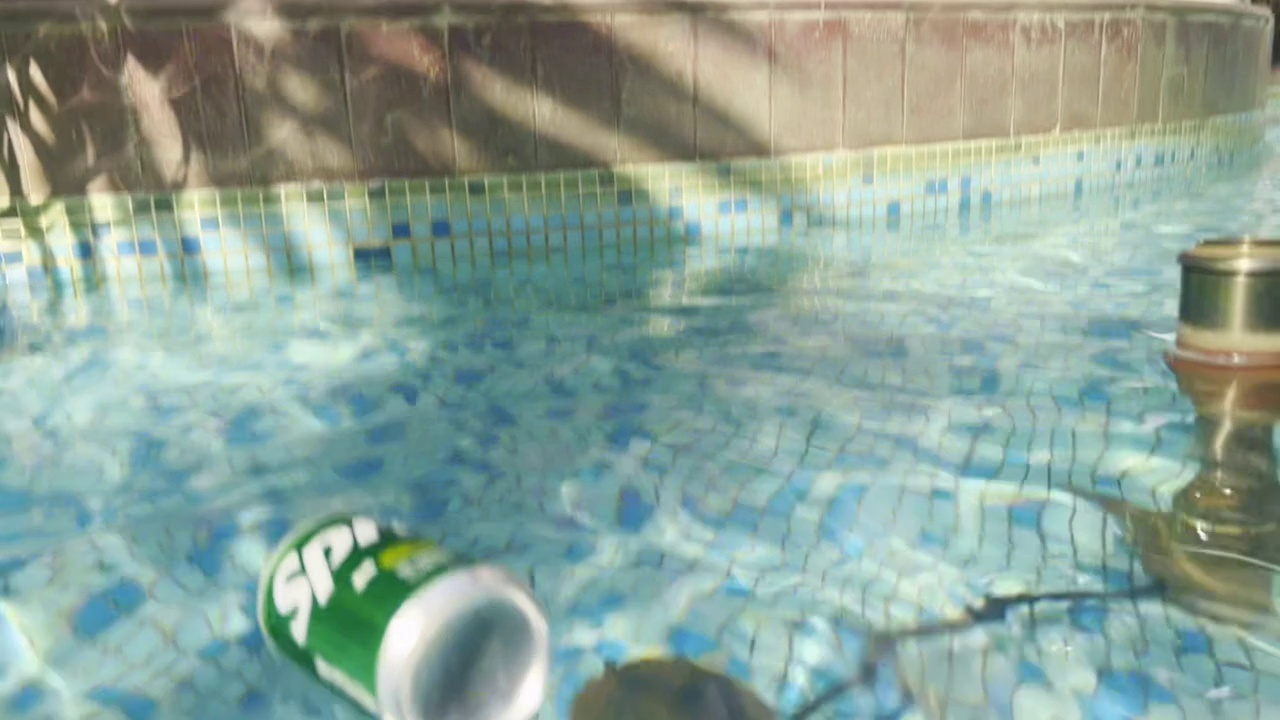debris: (221, 488, 561, 720)
